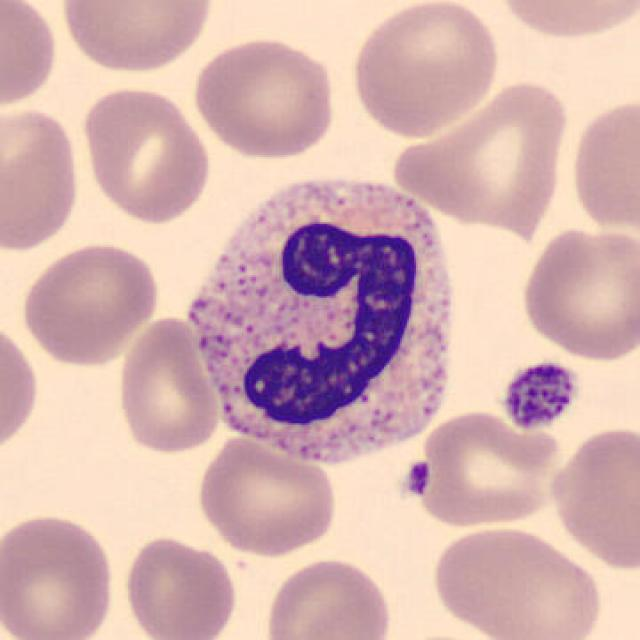Neutrophil: (180, 163, 470, 482)
Platelets: (498, 356, 581, 432), (400, 457, 432, 499)
RBC: (403, 76, 572, 233), (345, 0, 505, 139), (427, 522, 606, 640), (188, 34, 342, 162), (409, 407, 567, 531), (78, 83, 214, 226), (18, 238, 162, 369), (192, 432, 340, 559), (516, 222, 638, 363), (112, 314, 222, 456), (0, 509, 119, 640), (546, 421, 640, 573), (119, 532, 240, 640), (0, 102, 84, 254), (57, 0, 219, 78), (259, 553, 394, 640), (567, 92, 638, 236), (0, 0, 62, 113), (487, 0, 637, 44), (0, 316, 43, 460), (387, 631, 505, 640)
